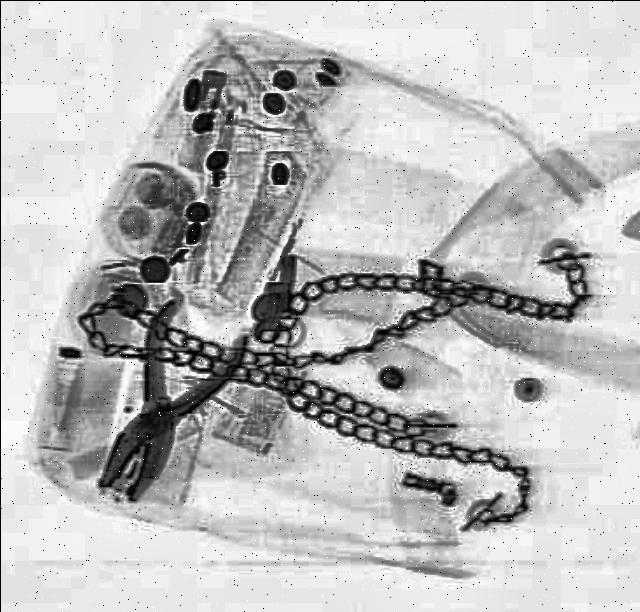Pliers: (66, 292, 254, 510)
